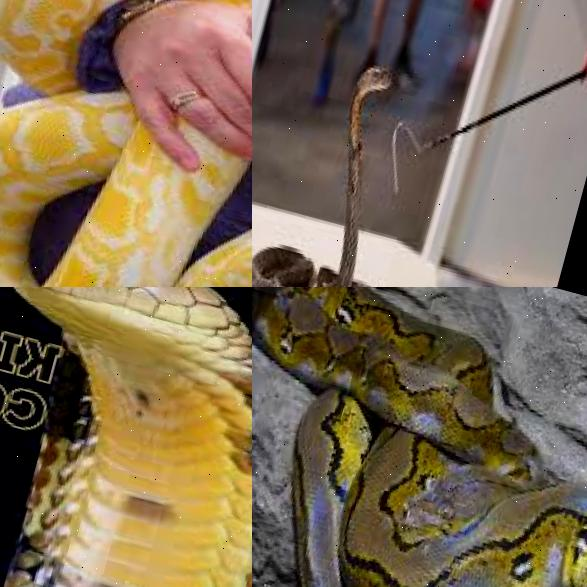snake: (252, 287, 587, 587), (0, 287, 252, 587), (0, 0, 252, 287), (252, 43, 453, 287)
